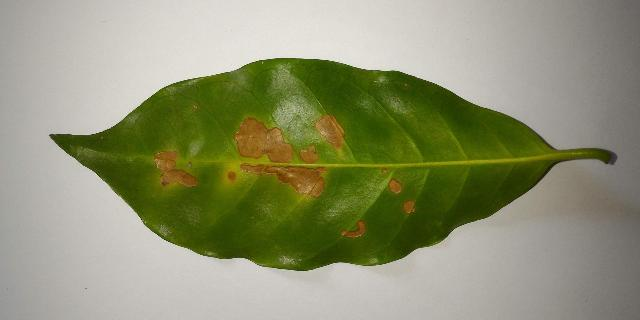cercospora: (233, 118, 327, 197), (154, 151, 198, 186), (313, 115, 345, 151), (341, 221, 366, 237), (388, 178, 401, 194), (402, 200, 415, 213), (224, 170, 237, 182), (382, 168, 387, 173), (194, 106, 196, 109), (406, 85, 406, 86)
